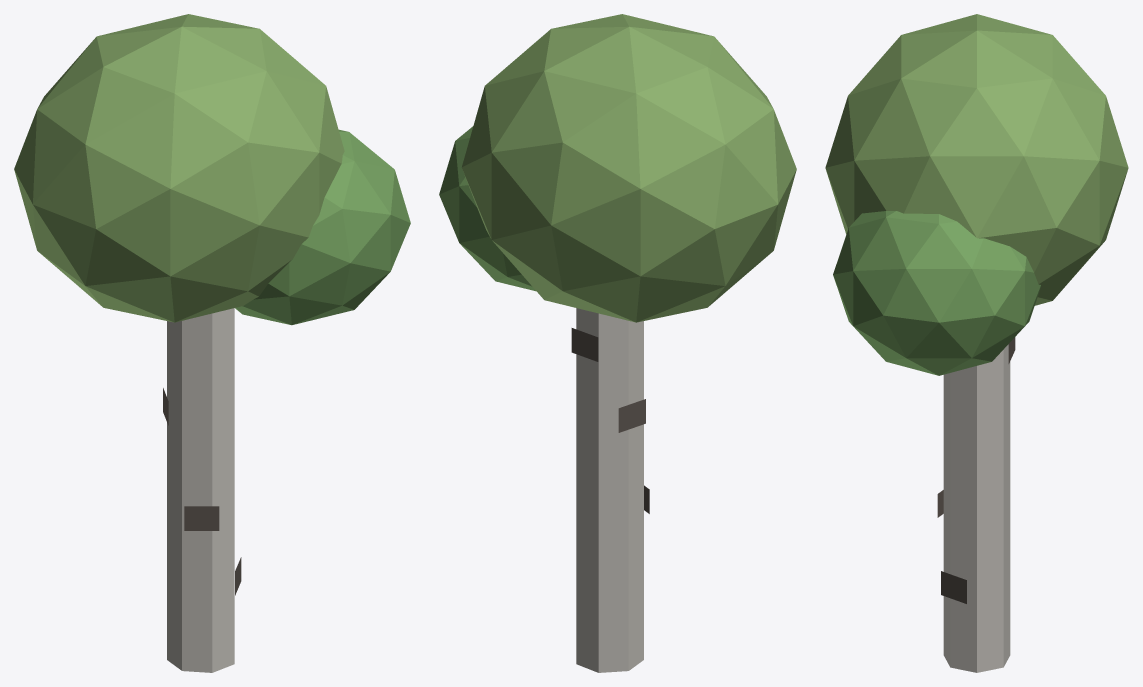
The model's file is bouleau-1.glb.
The picture shows the model from 3 angles, left to right: view 1: azimuth 30°, elevation 25°; view 2: azimuth 150°, elevation 25°; view 3: azimuth 270°, elevation 25°; orthographic projection. The views are drawn at different scales.
Parts seen in each view (by area): view 1: part_00; view 2: part_00; view 3: part_00.
Part boxes in pixels (box(x1,y1,x2,y2)): part_00: box(14, 14, 410, 672); part_00: box(439, 14, 796, 672); part_00: box(825, 14, 1128, 672).
Size of the model in its own units: 0.5101 by 0.9 by 0.3999.
